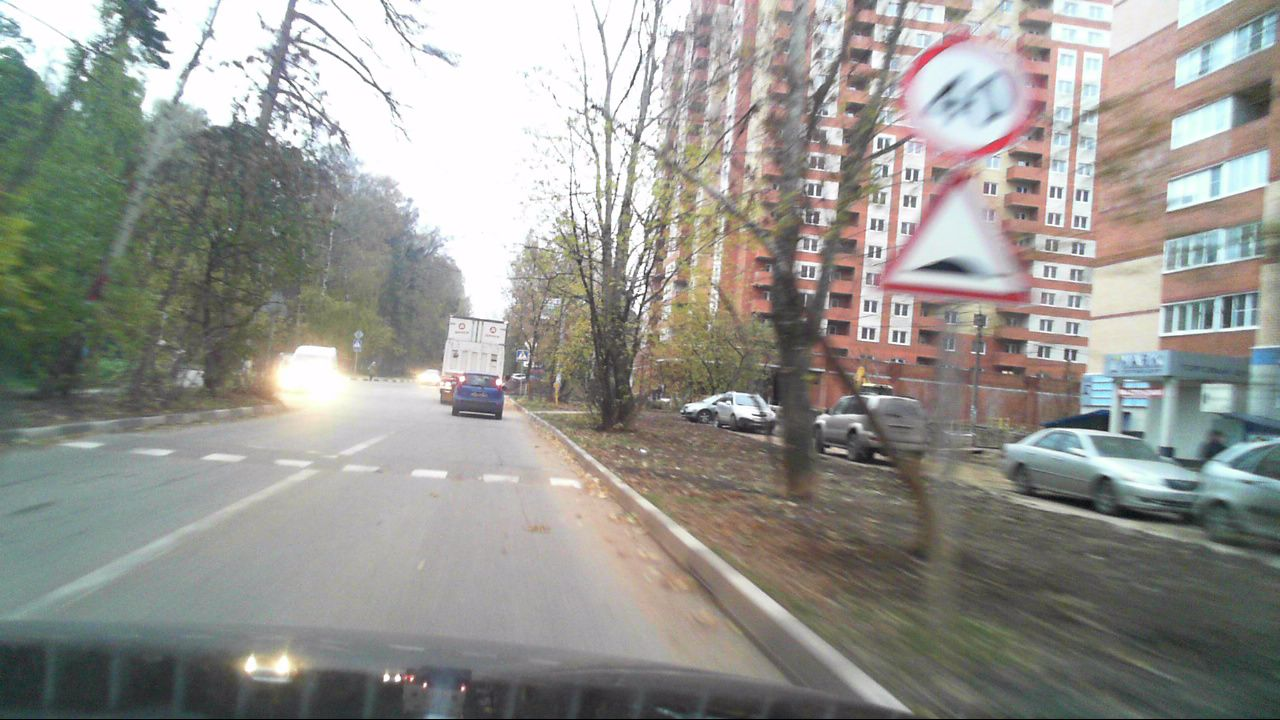speed_warning_40: (900, 35, 1028, 159)
